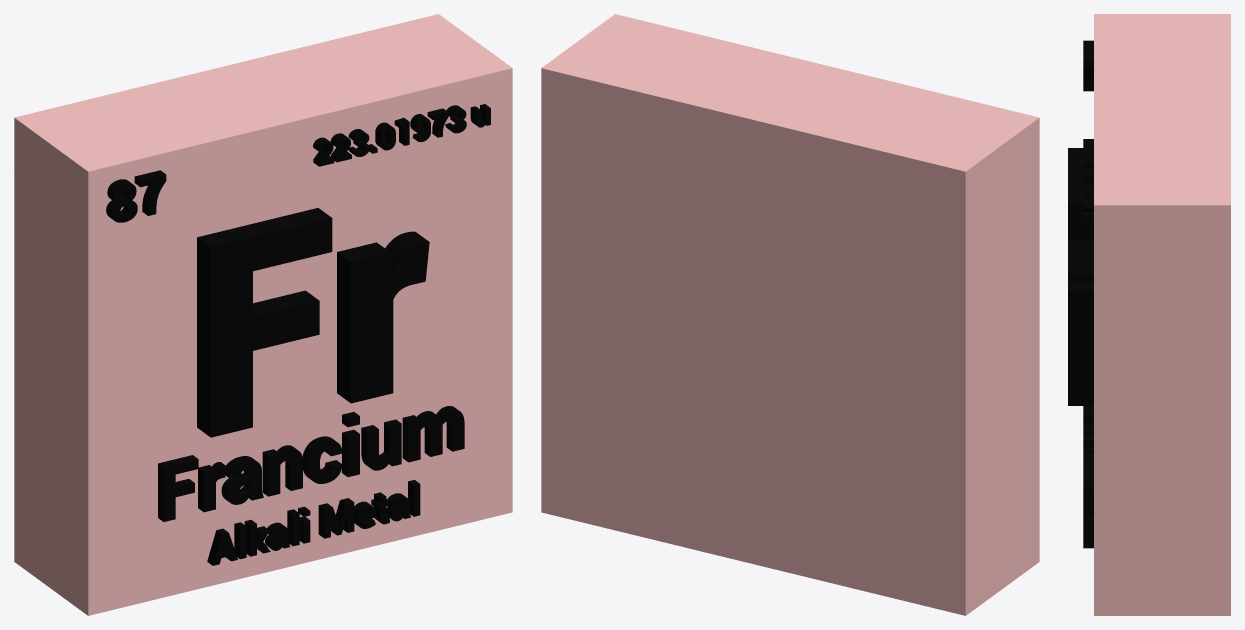
The picture shows the model from 3 angles, left to right: view 1: azimuth 30°, elevation 25°; view 2: azimuth 150°, elevation 25°; view 3: azimuth 270°, elevation 25°; orthographic projection. The views are drawn at different scales.
Visible parts, largest first — view 1: Cube, Text, Text.001, Text.002, Text.004, Text.003; view 2: Cube; view 3: Cube, Text, Text.001, Text.004, Text.003, Text.002.
Part boxes in pixels (left/top/right/bottom): Cube: left=14, top=14, right=512, bottom=615; Text: left=197, top=208, right=429, bottom=437; Text.001: left=158, top=406, right=464, bottom=521; Text.002: left=207, top=480, right=420, bottom=565; Text.004: left=313, top=104, right=490, bottom=166; Text.003: left=106, top=170, right=166, bottom=222; Cube: left=541, top=14, right=1039, bottom=615; Cube: left=1094, top=14, right=1230, bottom=615; Text: left=1068, top=148, right=1093, bottom=405; Text.001: left=1083, top=406, right=1093, bottom=516; Text.004: left=1083, top=139, right=1093, bottom=235; Text.003: left=1083, top=40, right=1093, bottom=91; Text.002: left=1083, top=516, right=1093, bottom=548.
Size of the model in its own units: 178 by 178 by 63.95.
